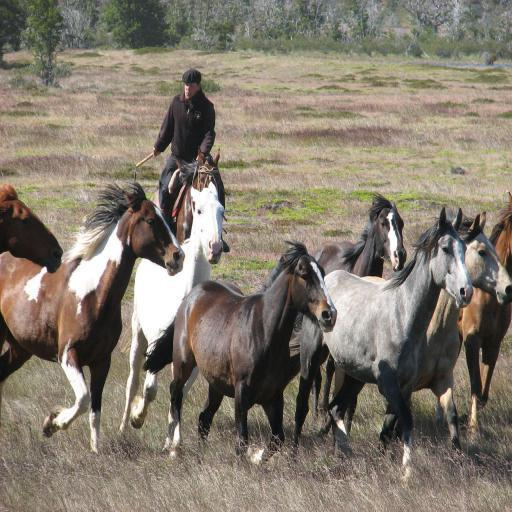horse: (0, 144, 512, 486)
